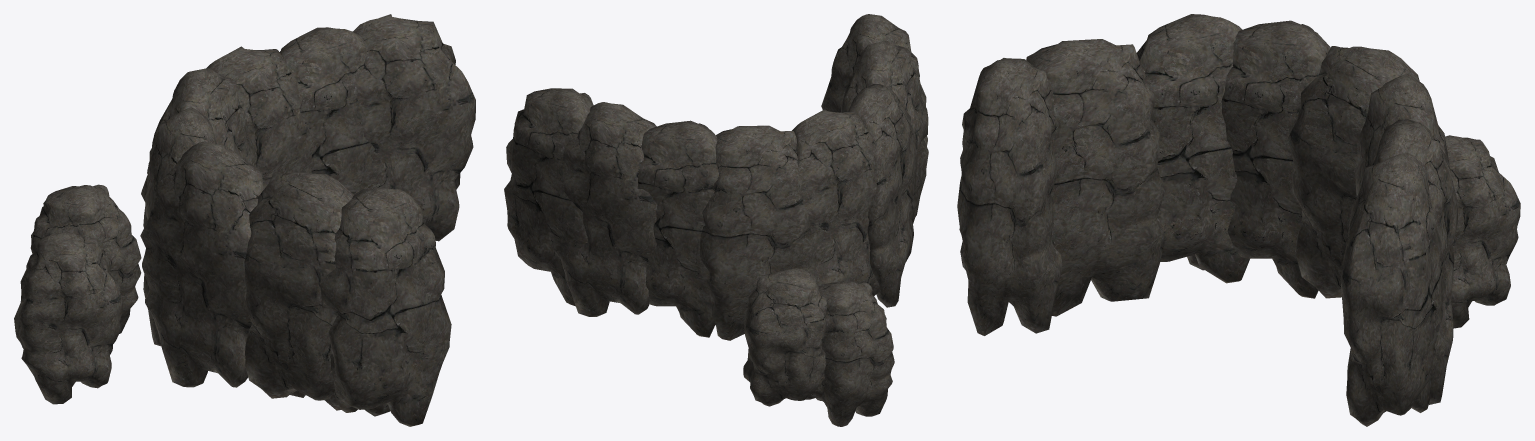
Rendered from TwinPeakRocksShape6.dae.
The picture shows the model from 3 angles, left to right: view 1: azimuth 30°, elevation 25°; view 2: azimuth 150°, elevation 25°; view 3: azimuth 270°, elevation 25°; orthographic projection. The views are drawn at different scales.
Parts seen in each view (by area): view 1: TwinPeakRocks6; view 2: TwinPeakRocks6; view 3: TwinPeakRocks6.
Part boxes in pixels (x1,y1,x2,y2): TwinPeakRocks6: (14, 14, 475, 426); TwinPeakRocks6: (504, 14, 928, 426); TwinPeakRocks6: (957, 14, 1520, 426).
Size of the model in its own units: 186 by 117 by 182.
